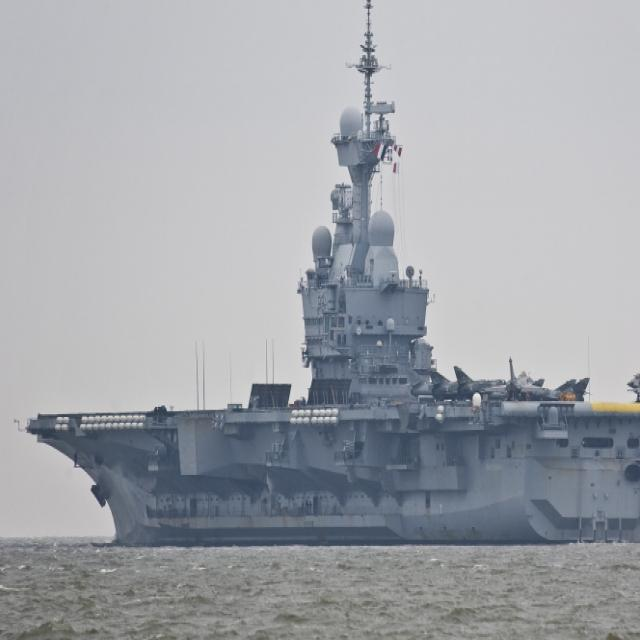Portanaves: (16, 1, 640, 551)
